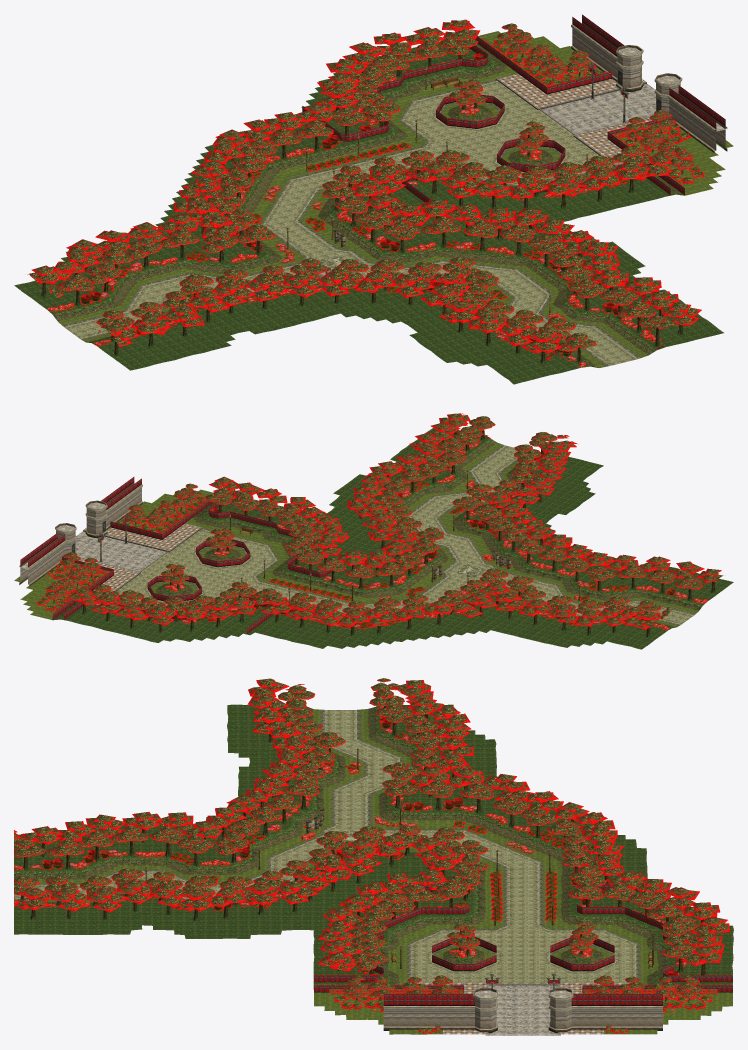
File: RoyalAvenueNorth.obj
3 renders of one model, top to bottom at view 1: azimuth 30°, elevation 25°; view 2: azimuth 150°, elevation 25°; view 3: azimuth 270°, elevation 25°, orthographic. The views are drawn at different scales.
Parts seen in each view (by area): view 1: Object.013; view 2: Object.013; view 3: Object.013.
Boxes of the visible parts, bbox=[...] form: Object.013: bbox=[14, 14, 733, 384]; Object.013: bbox=[14, 413, 733, 649]; Object.013: bbox=[14, 678, 733, 1035].
Size of the model in its own units: 144 by 7.4 by 134.
17 materials, 17 textured.
